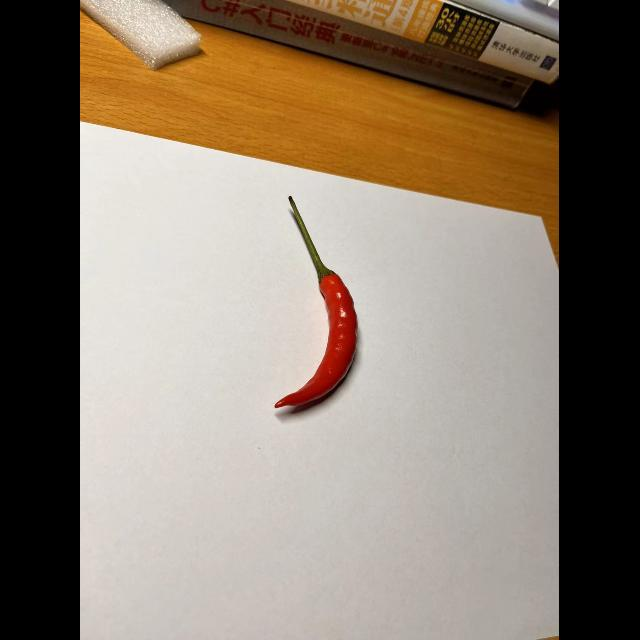chili_pepper: (268, 190, 364, 418)
